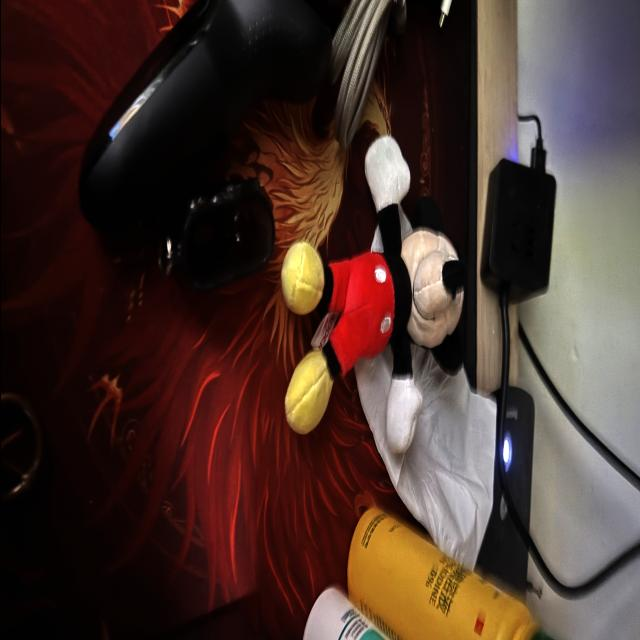mickey: (281, 137, 466, 453)
